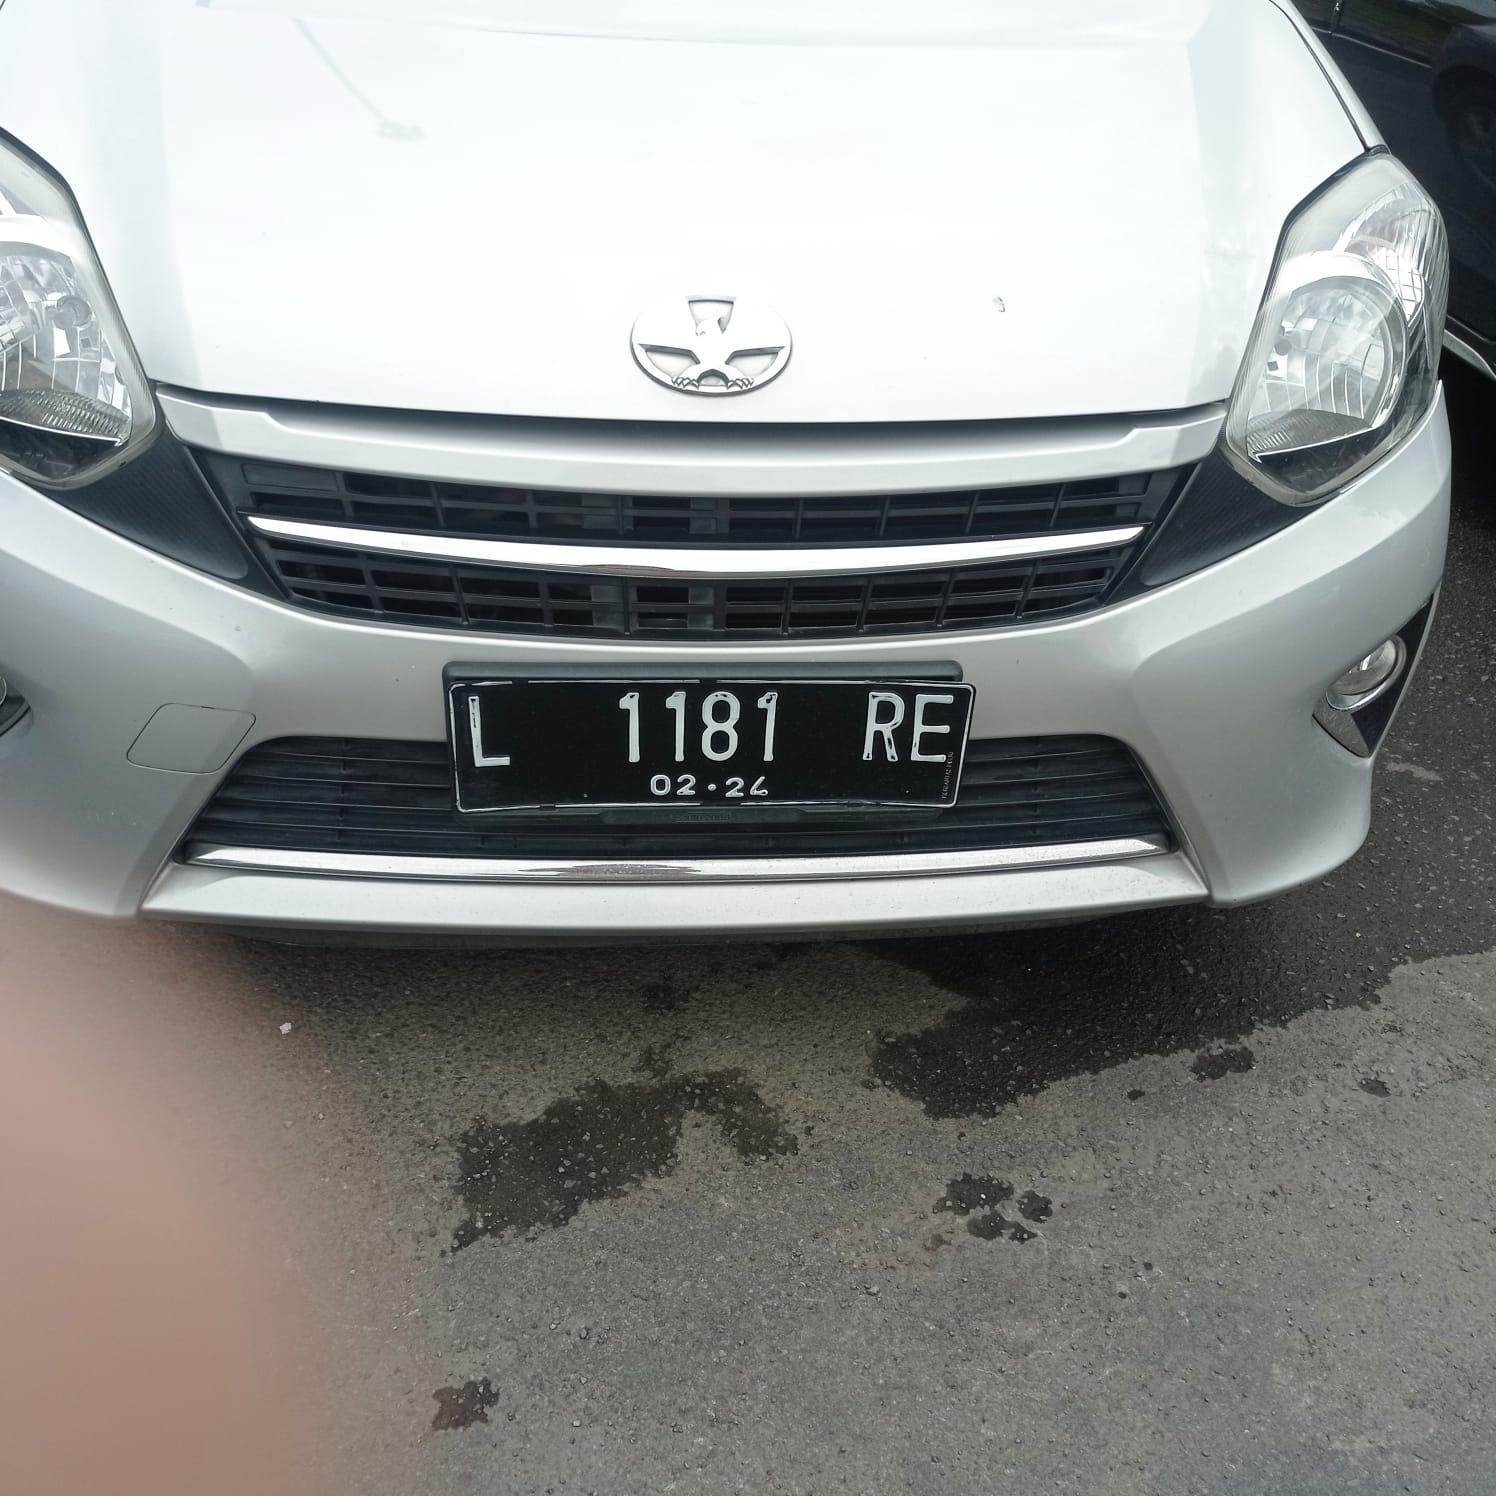plat: (449, 678, 973, 812)
